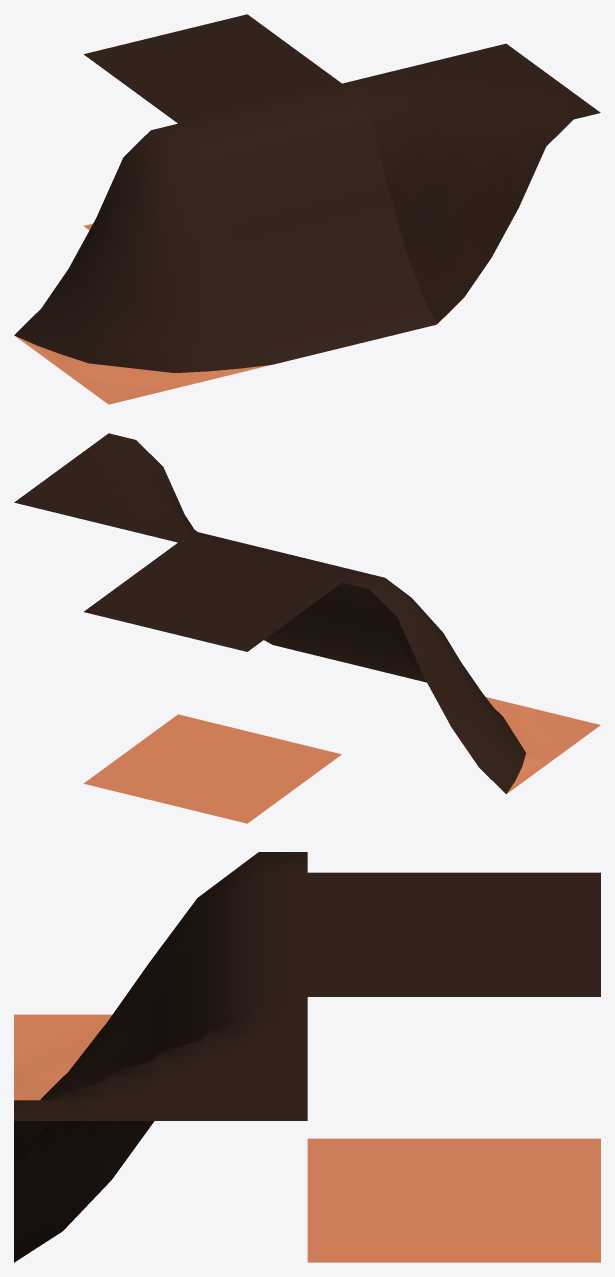
The model's file is outside_asset01.fbx.
3 views of the same model, one above another, from view 1: azimuth 30°, elevation 25°; view 2: azimuth 150°, elevation 25°; view 3: azimuth 270°, elevation 25° (orthographic). The views are drawn at different scales.
Visible parts, largest first — view 1: High_half_Mesh2, High_half_ corner _Mesh2, High_corner_Mesh2, High_Mesh2, High_half_ corner _Mesh1; view 2: Flat_Mesh1, High_Mesh2, High_corner_Mesh2, High_half_Mesh2, High_half_ corner _Mesh2, High_half_ corner _Mesh1; view 3: Flat_Mesh1, High_Mesh2, High_corner_Mesh2, High_half_Mesh2, High_half_ corner _Mesh2, High_half_ corner _Mesh1.
Part boxes in pixels (x1,y1,x2,y2): High_half_Mesh2: (178, 83, 436, 364); High_half_ corner _Mesh2: (14, 123, 272, 372); High_corner_Mesh2: (342, 43, 600, 324); High_Mesh2: (84, 14, 341, 123); High_half_ corner _Mesh1: (14, 335, 270, 404); Flat_Mesh1: (84, 714, 341, 823); High_Mesh2: (84, 542, 341, 651); High_corner_Mesh2: (14, 433, 197, 542); High_half_Mesh2: (178, 531, 426, 682); High_half_ corner _Mesh2: (342, 571, 525, 793); High_half_ corner _Mesh1: (486, 697, 600, 793); Flat_Mesh1: (307, 1138, 600, 1262); High_Mesh2: (307, 872, 600, 996); High_corner_Mesh2: (14, 997, 307, 1262); High_half_Mesh2: (81, 872, 307, 1087); High_half_ corner _Mesh2: (40, 852, 307, 1100); High_half_ corner _Mesh1: (14, 1014, 111, 1100).
Size of the model in its own units: 3000 by 1001 by 2000.
